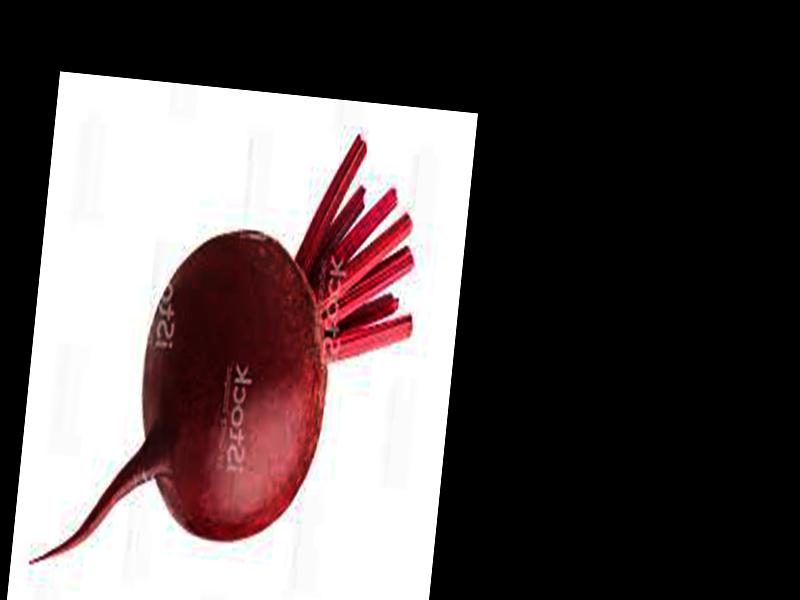Beet: (35, 109, 430, 600)
